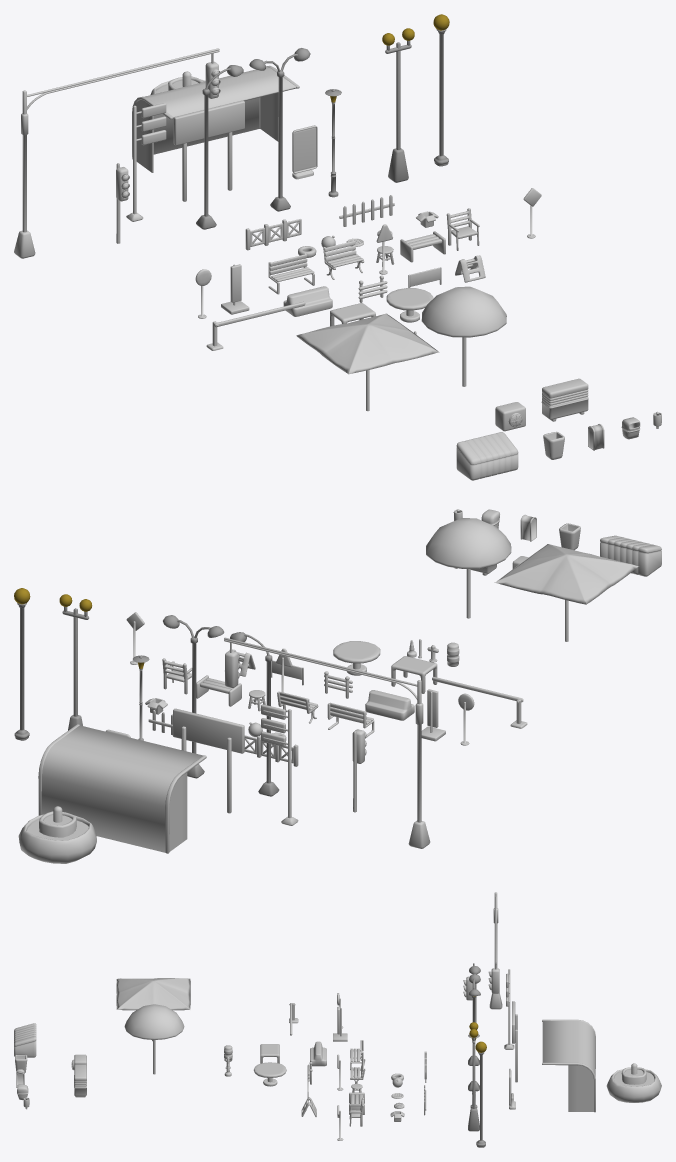
File: Props_Sm.fbx
The picture shows the model from 3 angles, top to bottom: view 1: azimuth 30°, elevation 25°; view 2: azimuth 150°, elevation 25°; view 3: azimuth 270°, elevation 25°; orthographic projection. The views are drawn at different scales.
Visible parts, largest first — view 1: Cube.027, ShadeB, ShadeA, Cube.008, Roundcube.013, Dumpster, GroundVent, Roundcube.007, Roundcube.001, Roundcube.005, Roundcube.027, Roundcube.011 (+12 smaller); view 2: Cube.027, ShadeB, ShadeA, Roundcube, Roundcube.013, Cube.008, Dumpster, Roundcube.001, Roundcube.007, Roundcube.005, Cube.021, Table (+11 smaller); view 3: Cube.027, ShadeB, ShadeA, Roundcube, Roundcube.013, Dumpster, Roundcube.007, Table, Roundcube.035, GroundVent.
Boxes of the visible parts, x1,y1,x2,y2 form: Cube.027: [132, 65, 299, 172]; ShadeB: [296, 313, 439, 411]; ShadeA: [421, 286, 506, 386]; Cube.008: [173, 100, 244, 201]; Roundcube.013: [14, 48, 220, 258]; Dumpster: [456, 432, 518, 480]; GroundVent: [541, 378, 588, 421]; Roundcube.007: [382, 28, 414, 182]; Roundcube.001: [126, 103, 166, 221]; Roundcube.005: [249, 48, 310, 211]; Roundcube.027: [292, 125, 317, 179]; Roundcube.011: [196, 65, 243, 229]; Cube.027: [38, 724, 206, 853]; ShadeB: [494, 544, 638, 641]; ShadeA: [426, 518, 511, 618]; Roundcube: [18, 806, 96, 863]; Roundcube.013: [224, 637, 430, 848]; Cube.008: [173, 708, 244, 813]; Dumpster: [600, 535, 661, 576]; Roundcube.001: [261, 704, 298, 825]; Roundcube.007: [59, 594, 92, 730]; Roundcube.005: [163, 615, 224, 778]; Cube.021: [365, 690, 414, 720]; Table: [333, 641, 380, 675]; Cube.027: [542, 1019, 595, 1112]; ShadeB: [116, 978, 190, 1041]; ShadeA: [124, 1004, 184, 1074]; Roundcube: [606, 1063, 661, 1102]; Roundcube.013: [488, 892, 502, 1009]; Dumpster: [14, 1023, 36, 1057]; Roundcube.007: [468, 1022, 479, 1131]; Table: [253, 1062, 286, 1086]; Roundcube.035: [475, 1041, 486, 1147]; GroundVent: [74, 1065, 86, 1097].
Bounding box in the file's own units: 2064 × 780 × 3934.
